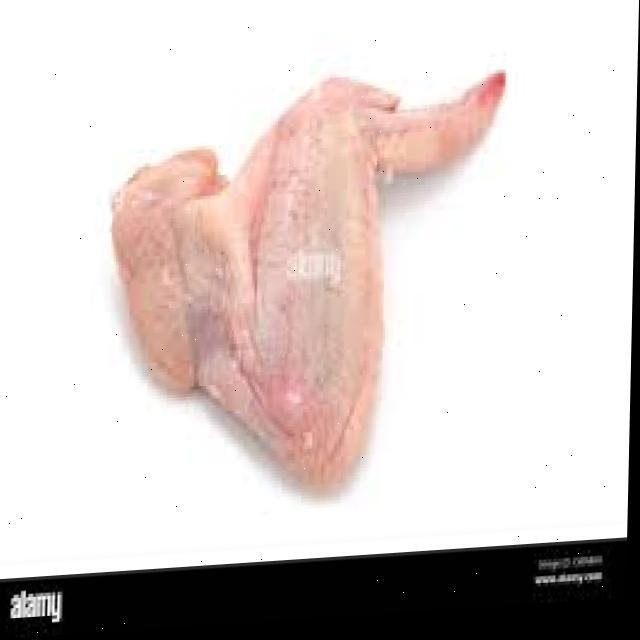wing: (93, 69, 526, 518)
